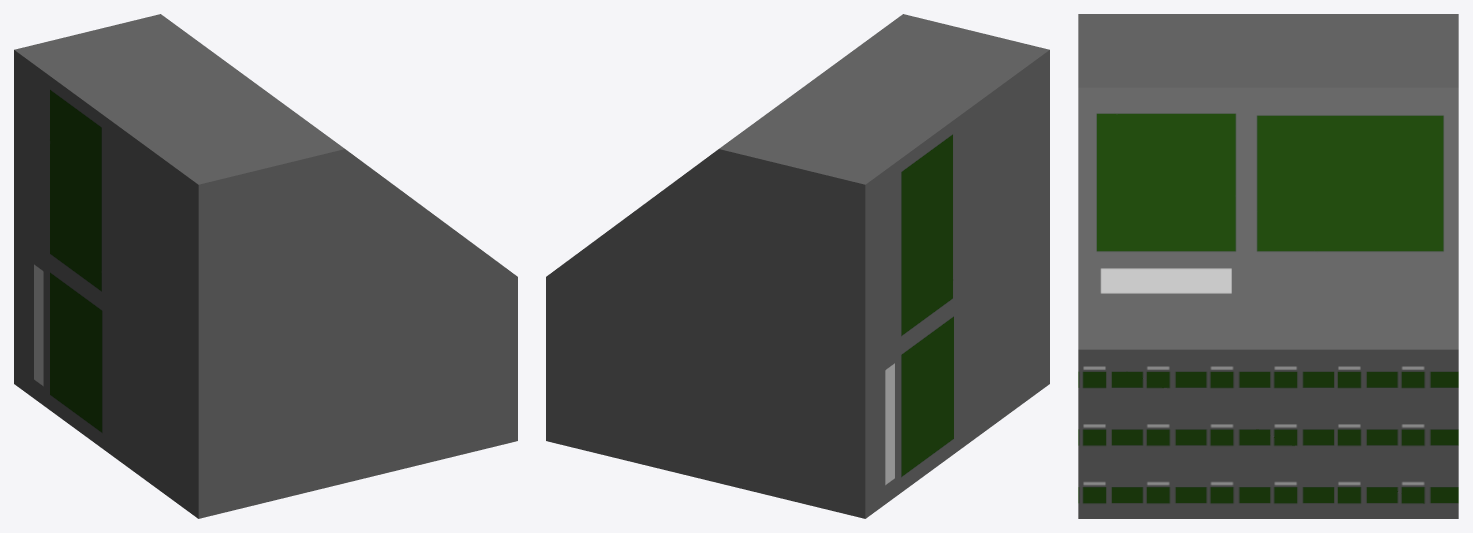
File: comp.glb
The picture shows the model from 3 angles, left to right: view 1: azimuth 30°, elevation 25°; view 2: azimuth 150°, elevation 25°; view 3: azimuth 270°, elevation 25°; orthographic projection. The views are drawn at different scales.
Parts seen in each view (by area): view 1: Cube; view 2: Cube; view 3: Cube.
Part boxes in pixels (x1,y1,x2,y2): Cube: (14,14,517,518); Cube: (546,14,1049,518); Cube: (1078,14,1458,518).
Size of the model in its own units: 2 by 2 by 2.
1 material, 1 textured.
